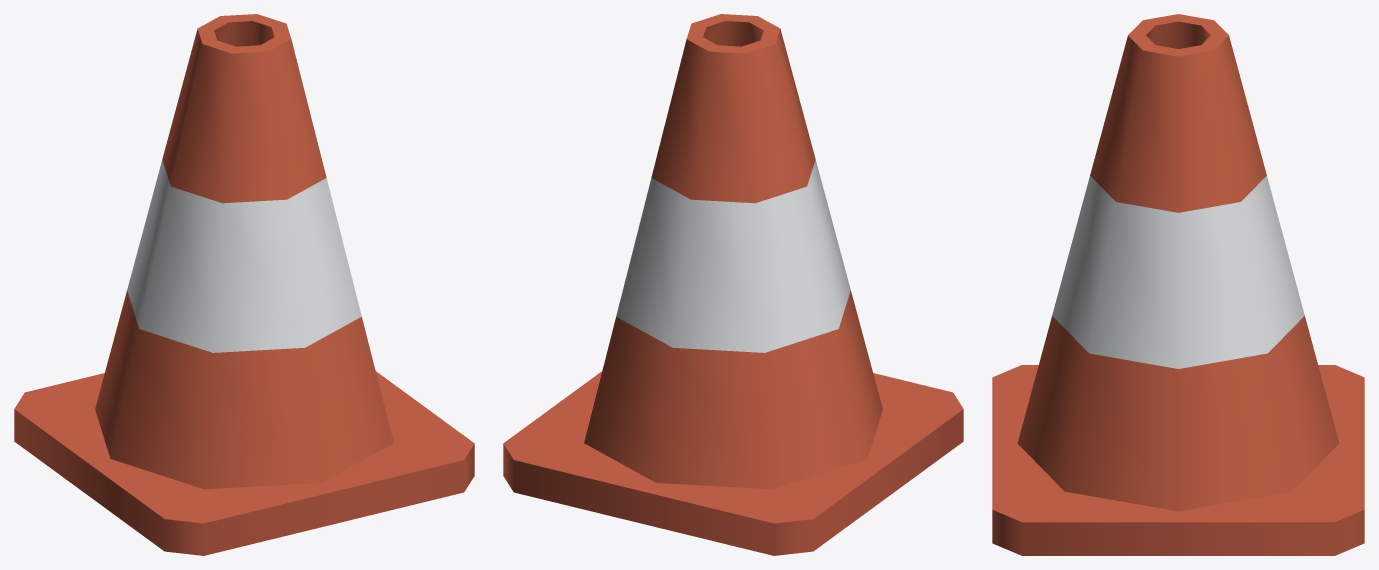
File: Traffic_Cone_004.glb
3 renders of one model, left to right at view 1: azimuth 30°, elevation 25°; view 2: azimuth 150°, elevation 25°; view 3: azimuth 270°, elevation 25°, orthographic. The views are drawn at different scales.
Visible parts, largest first — view 1: Traffic Cone.004; view 2: Traffic Cone.004; view 3: Traffic Cone.004.
Part boxes in pixels (<box>): Traffic Cone.004: <box>14,14,474,555</box>; Traffic Cone.004: <box>503,14,963,555</box>; Traffic Cone.004: <box>992,14,1364,555</box>.
Bounding box in the file's own units: 2 × 2.62 × 2.
Materials: 1 (1 with a texture image).
